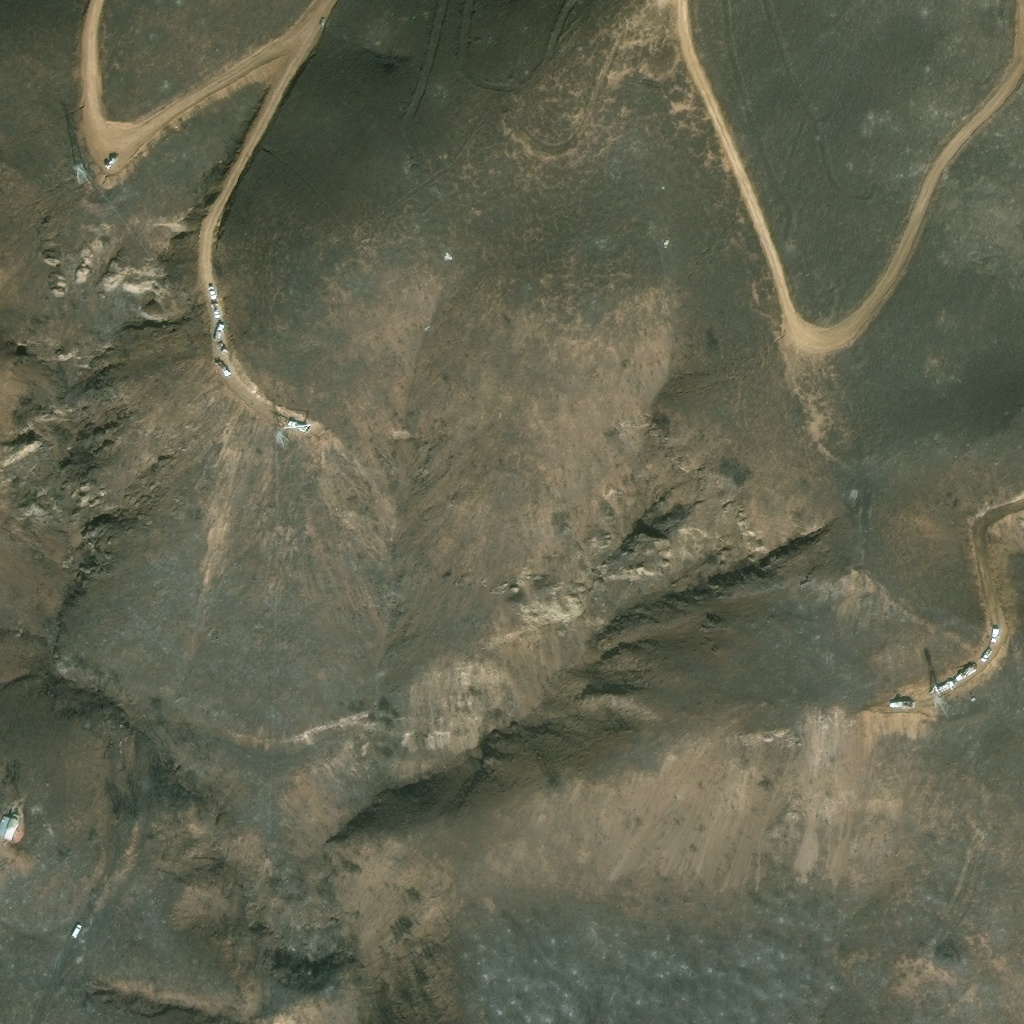0 no-damage: (0, 814, 18, 841)
